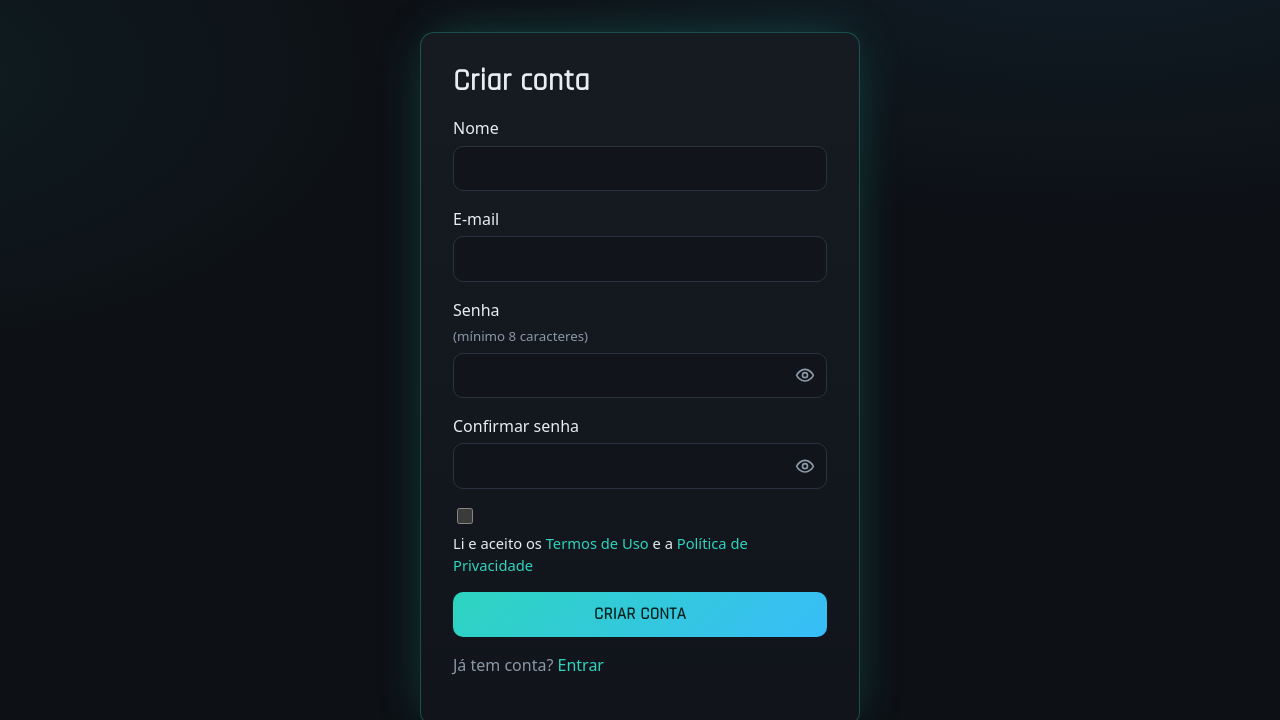
Test: cadastro › depois de cadastrar, pede para confirmar o e-mail
Type "Ana" into the field labelled "Nome" at x=640, y=168, box [453, 146, 827, 191]
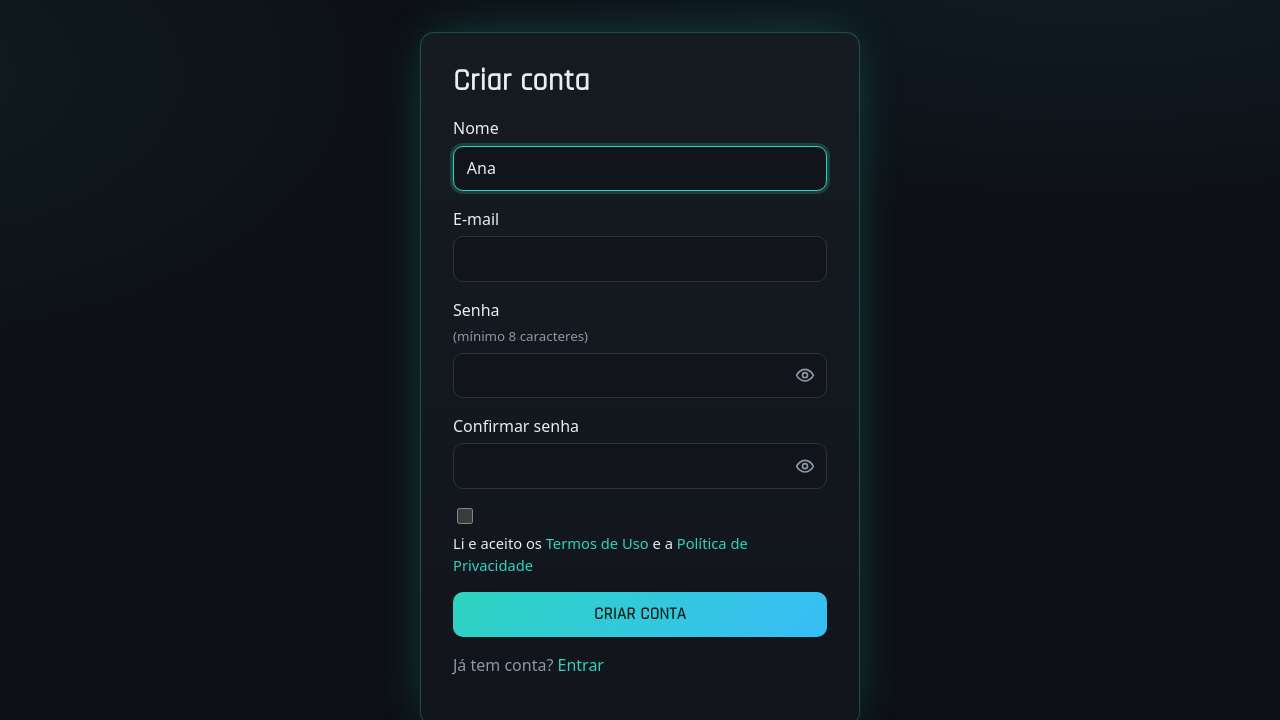
Type "Ana@Teste.com" into the field labelled "E-mail" at x=640, y=259, box [453, 236, 827, 282]
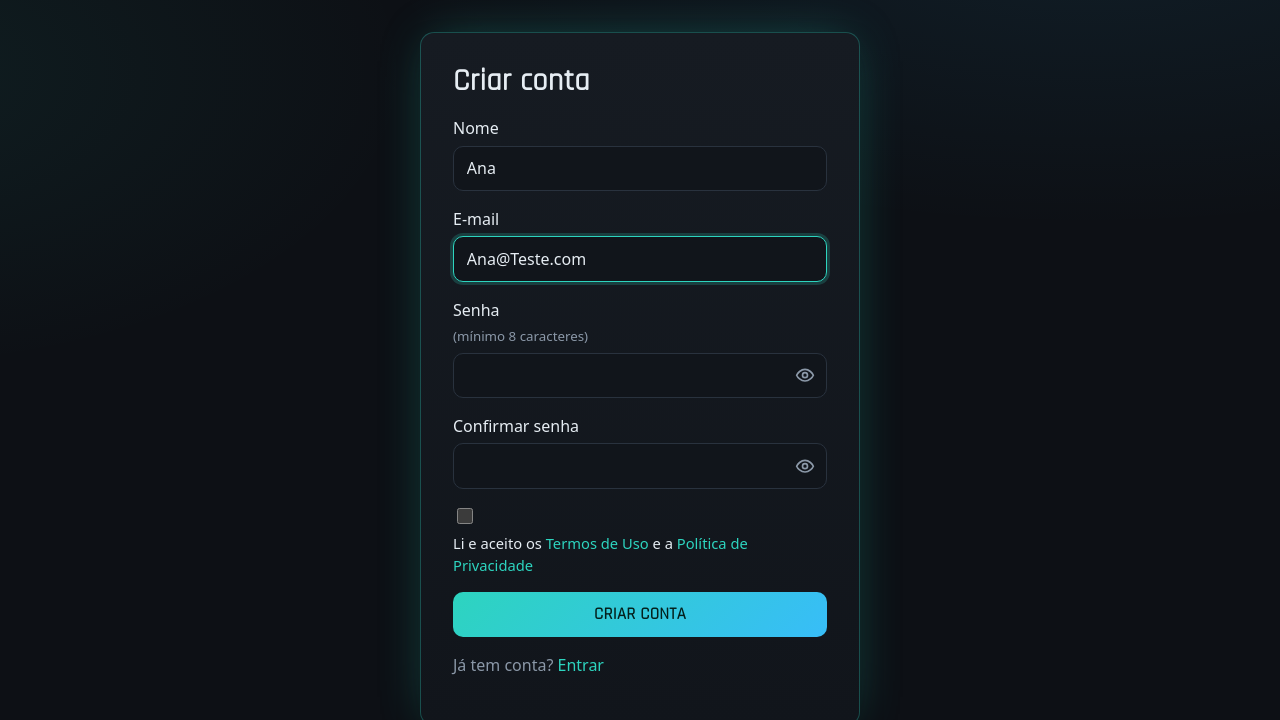
Type "senhaForte123" into the password field labelled "Senha (mínimo 8 caracteres)" at x=640, y=375, box [453, 353, 827, 398]
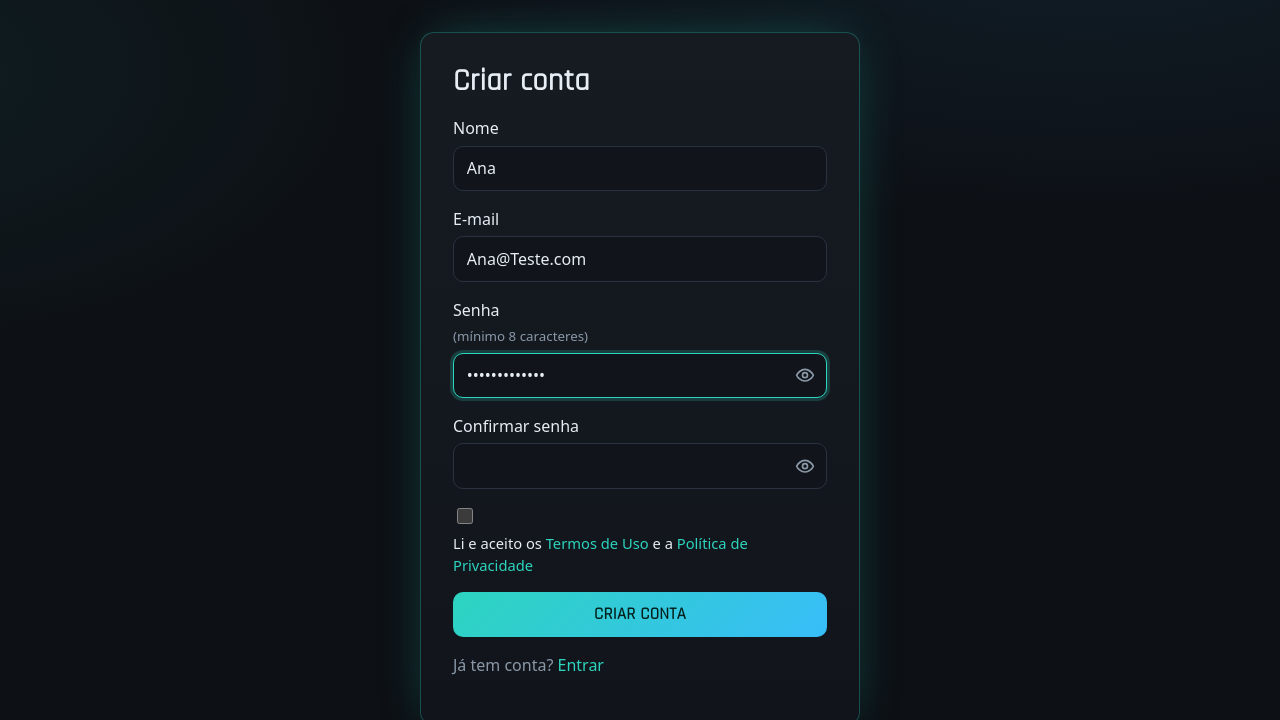
Type "senhaForte123" into the password field labelled "Confirmar senha" at x=640, y=466, box [453, 444, 827, 489]
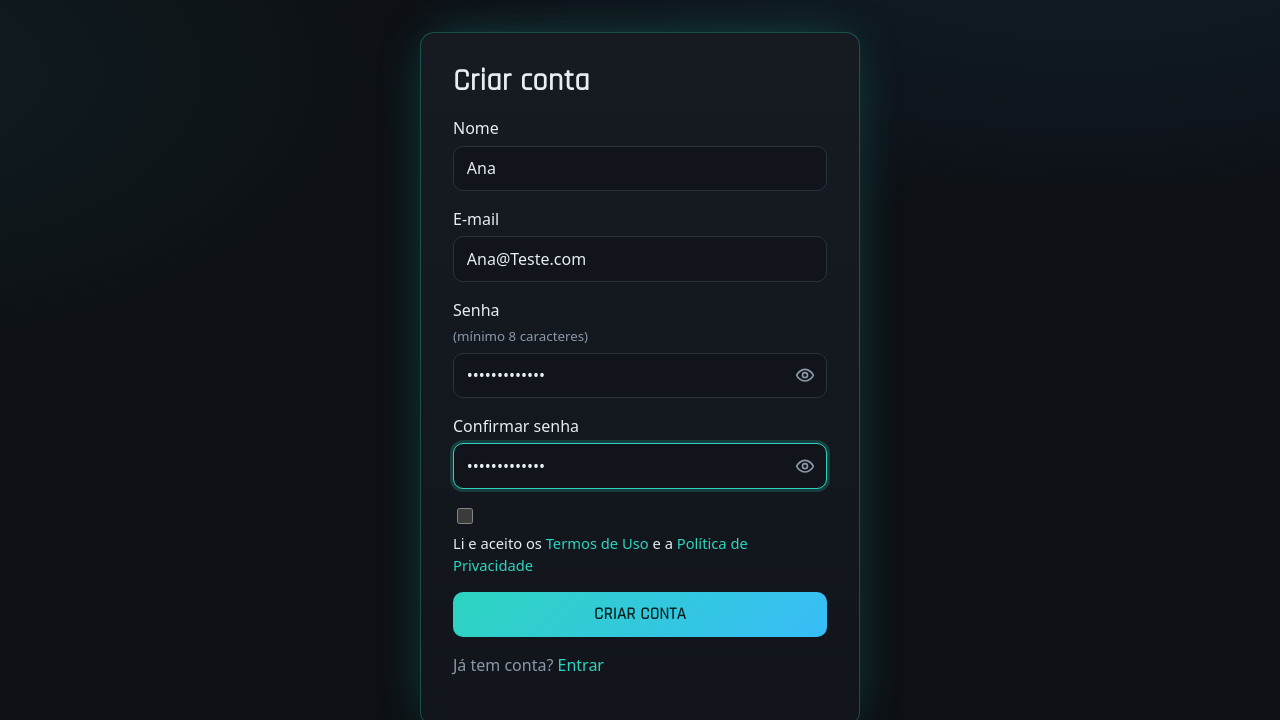
Click the checkbox labelled "Li e aceito os Termos de Uso e a Política de Privacidade" at x=465, y=516, box [457, 508, 473, 524]
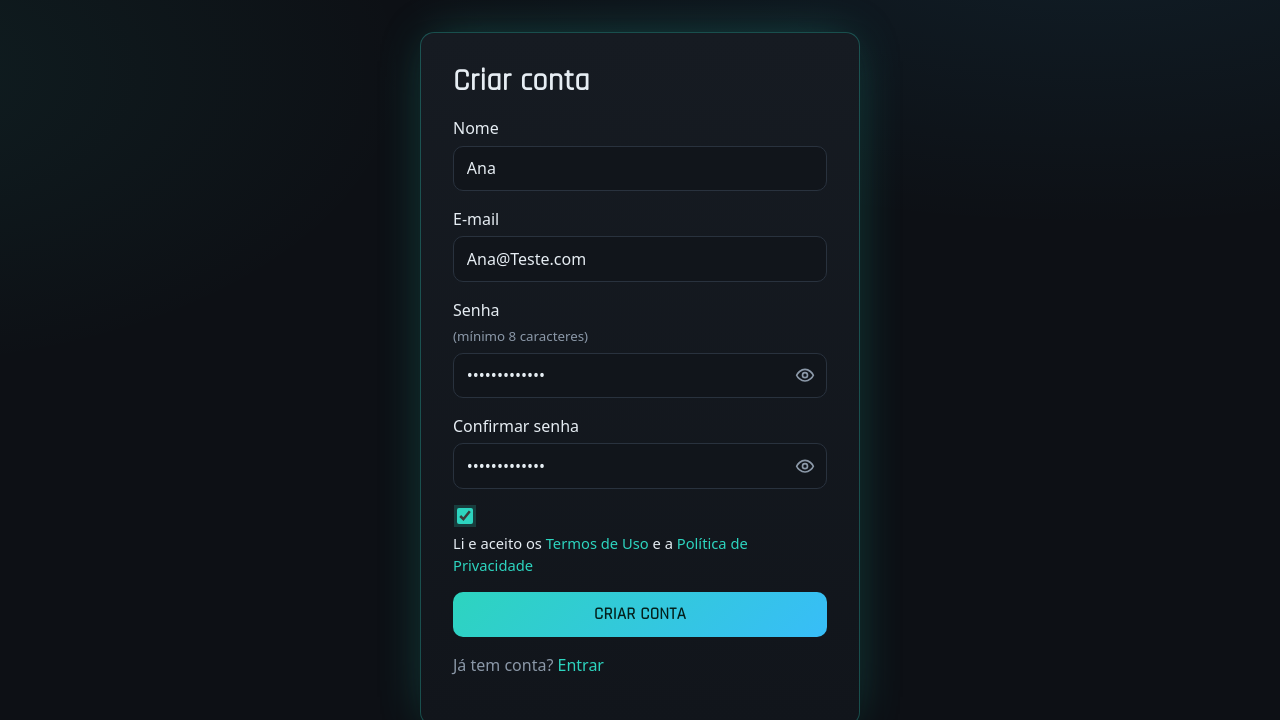
Click the button "Criar conta" at x=640, y=615, box [453, 592, 827, 637]
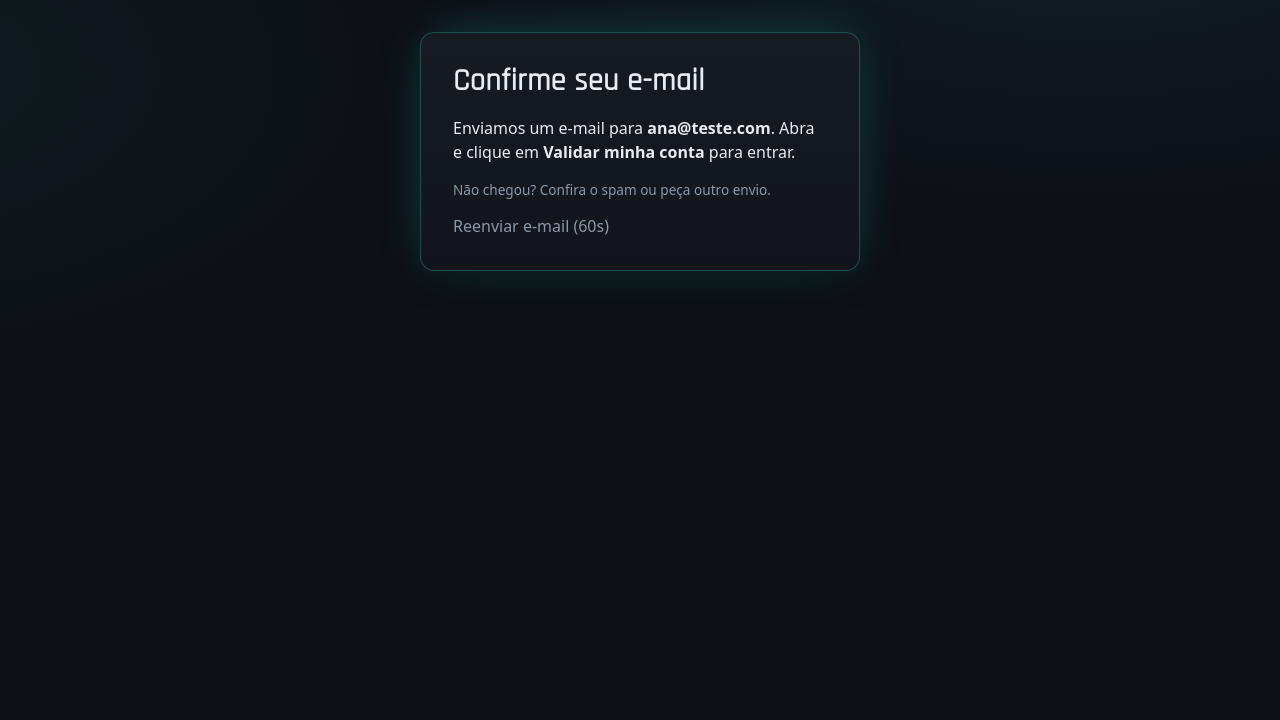
Now the heading "Confirme seu e-mail" is shown, box [453, 62, 705, 101]
Now the text "ana@teste.com" is shown, box [647, 117, 771, 139]
